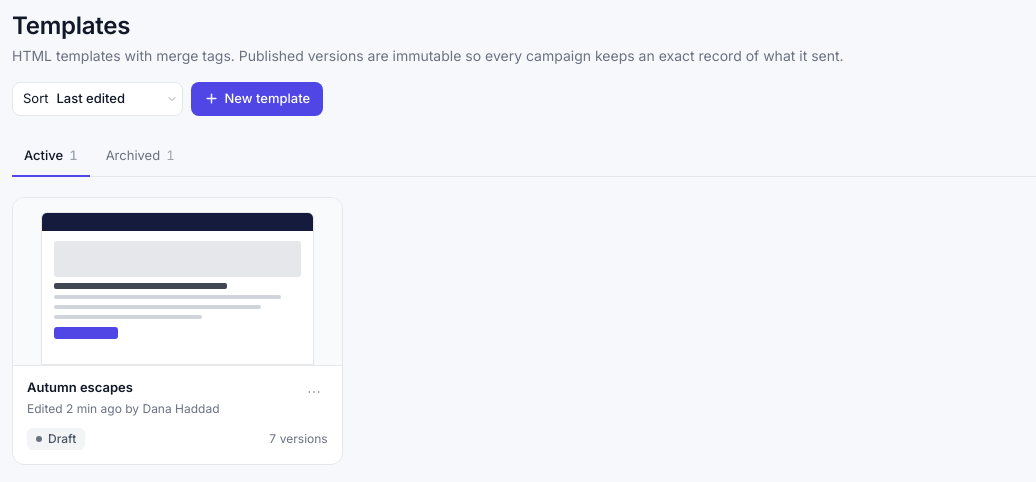
Test case: F1 — the template grid › separates active from archived
Expected: the link "Autumn escapes" is shown, x1=27 y1=379 x2=133 y2=395
Expected: the text "Eid 2025 offers" is not shown
Click the tab "Archived 1". click: x=140, y=157
box: x1=94 y1=136 x2=187 y2=177
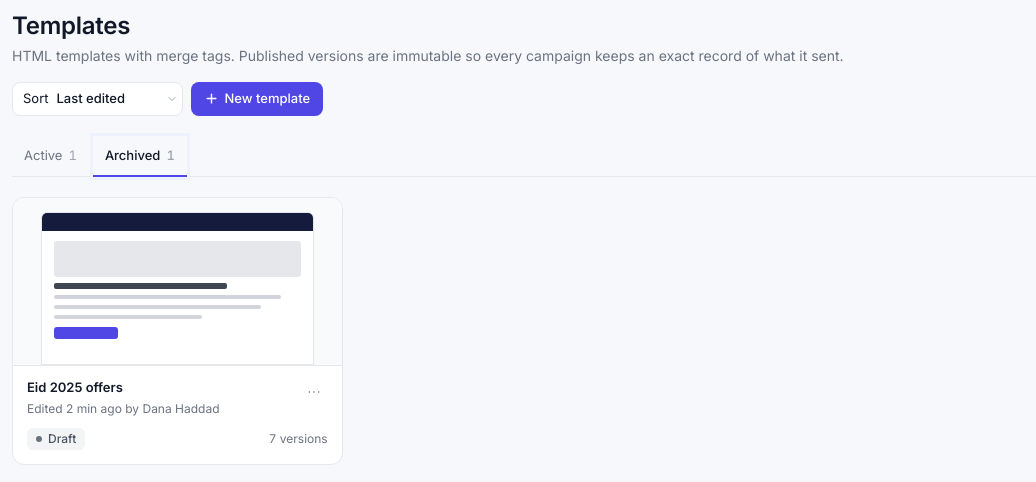
Result: the link "Eid 2025 offers" is shown at x1=27 y1=379 x2=123 y2=395
Result: the link "Autumn escapes" is gone
